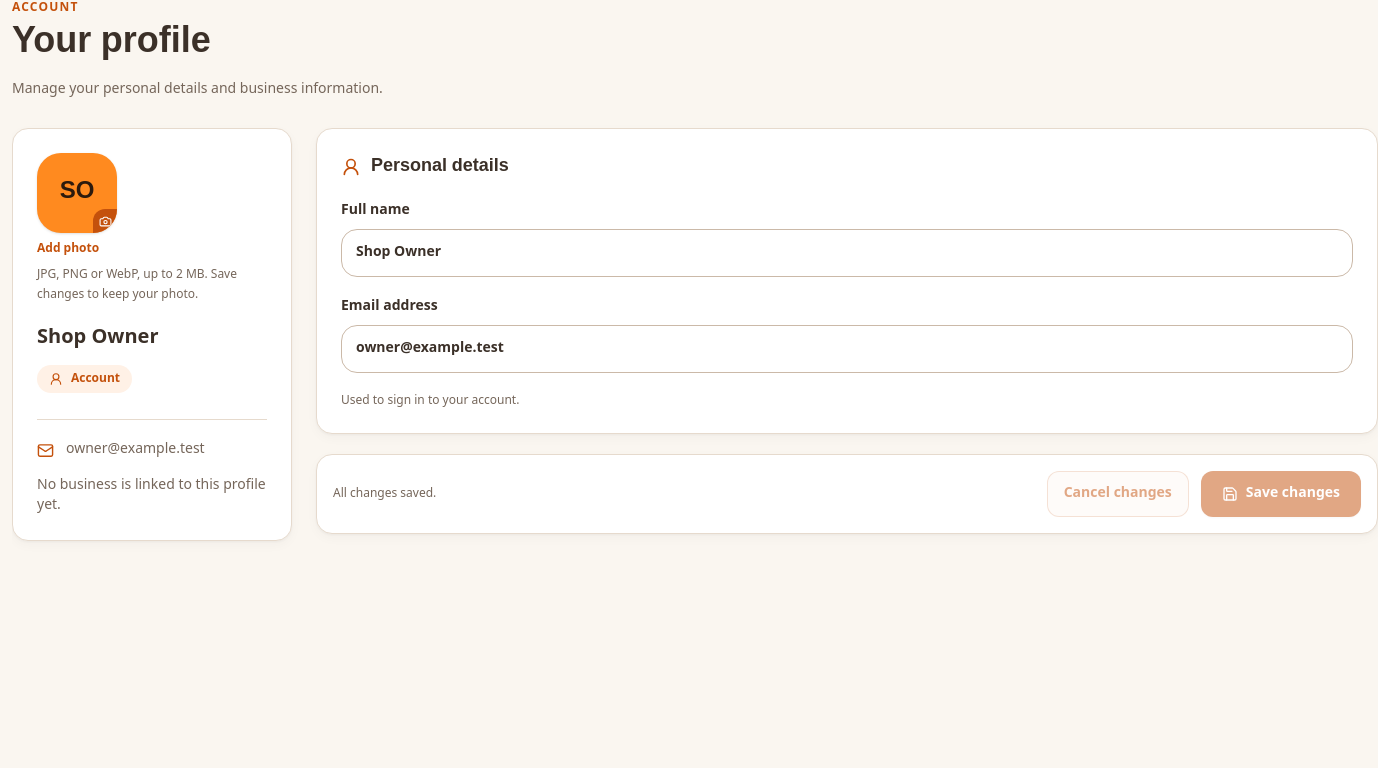
Test: User profile › allows a personal-details update when no business is linked
Expected: the text "No business is linked to this profile yet." is shown, [37,476,267,516]
Replace the text in the field labelled "Full name" with "Personal Owner": (847, 253) [341,229,1353,277]
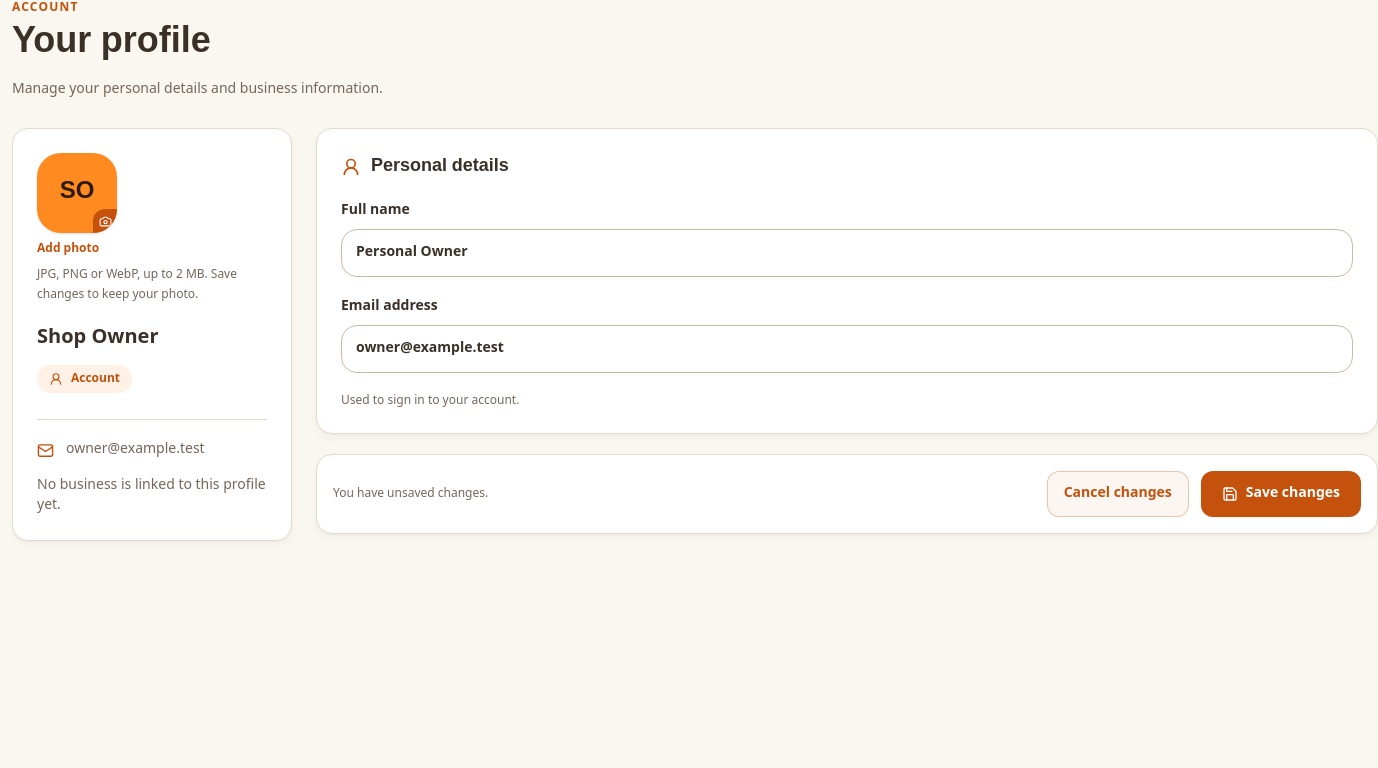
Click the button "Save changes": (1281, 494) [1201,471,1361,517]
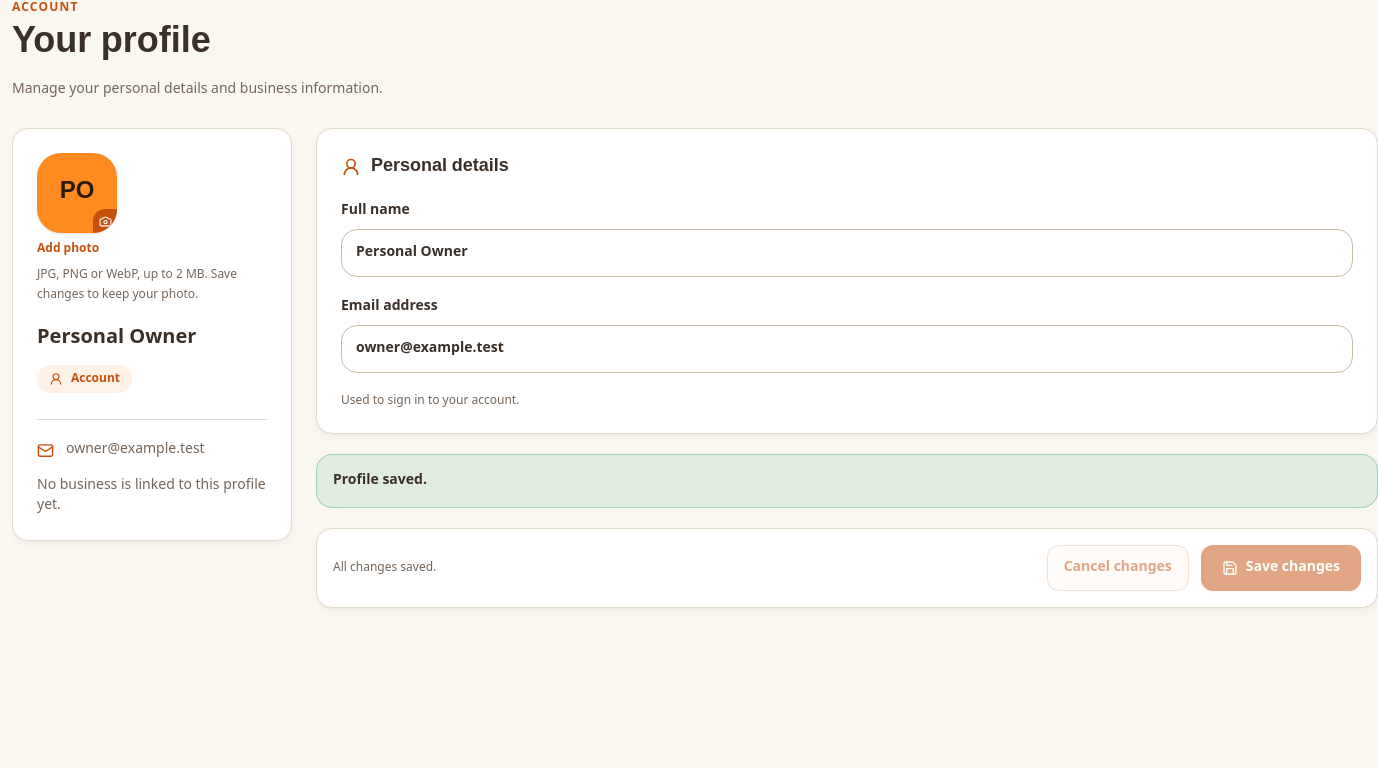
Expected: the text "Profile saved." is shown, [316,454,1377,508]
Expected: the button "Save changes" is disabled, [1201,545,1361,591]
